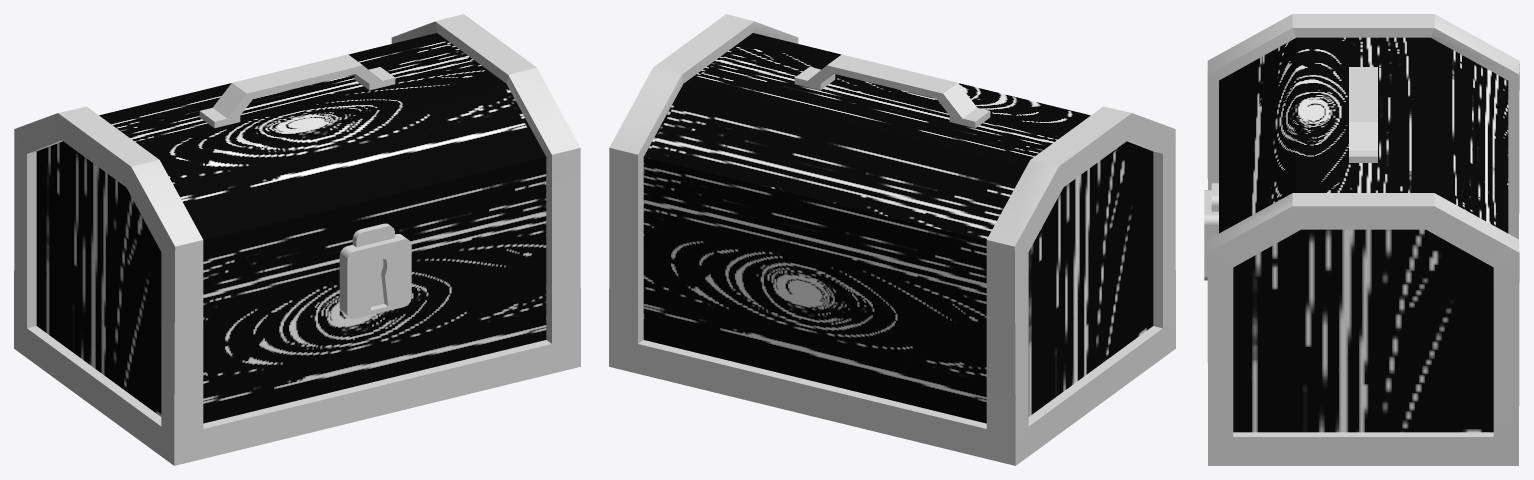
The model's file is Chest.fbx.
3 renders of one model, left to right at view 1: azimuth 30°, elevation 25°; view 2: azimuth 150°, elevation 25°; view 3: azimuth 270°, elevation 25°, orthographic. The views are drawn at different scales.
Parts seen in each view (by area): view 1: Chest_Body, Chest_Lock, Chest_Hand; view 2: Chest_Body, Chest_Hand; view 3: Chest_Body, Chest_Hand, Chest_Lock.
Boxes of the visible parts, left/top/right/bottom form: Chest_Body: left=14, top=14, right=580, bottom=465; Chest_Lock: left=339, top=223, right=411, bottom=318; Chest_Hand: left=199, top=54, right=395, bottom=128; Chest_Body: left=609, top=14, right=1175, bottom=465; Chest_Hand: left=794, top=54, right=990, bottom=128; Chest_Body: left=1207, top=14, right=1519, bottom=465; Chest_Hand: left=1349, top=67, right=1377, bottom=162; Chest_Lock: left=1204, top=183, right=1218, bottom=280.
Size of the model in its own units: 63 by 42 by 43.57.
